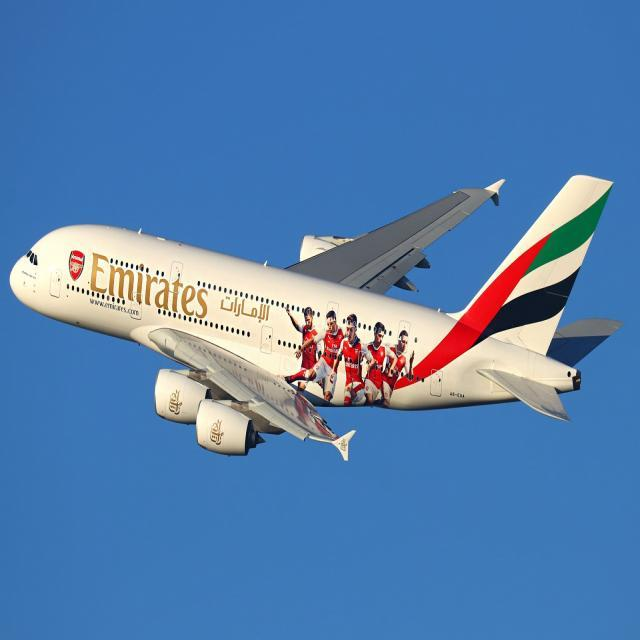Emirates: (89, 249, 208, 320)
